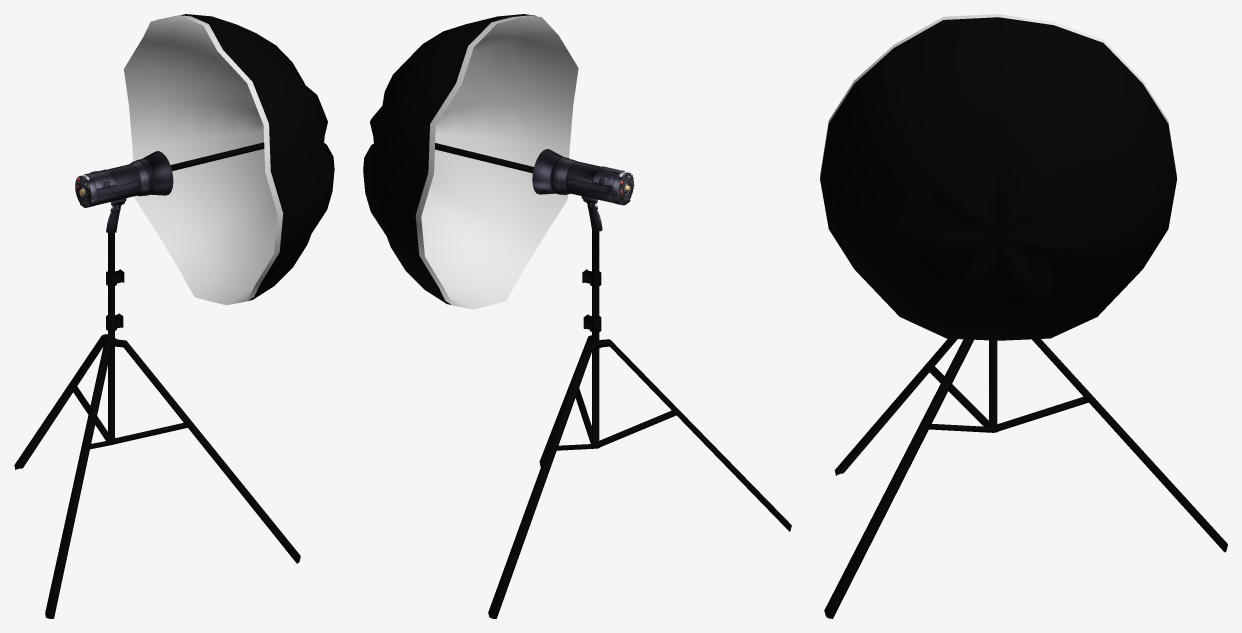
The model's file is flashes_umbrella.glb.
3 views of the same model, side by side, from view 1: azimuth 30°, elevation 25°; view 2: azimuth 150°, elevation 25°; view 3: azimuth 270°, elevation 25° (orthographic). The views are drawn at different scales.
Visible parts, largest first — view 1: Cylinder.002; view 2: Cylinder.002; view 3: Cylinder.002.
Part boxes in pixels (x1,y1,x2,y2): Cylinder.002: (14,14,334,618); Cylinder.002: (363,14,791,618); Cylinder.002: (820,14,1227,618).
Size of the model in its own units: 19.16 by 27.1 by 17.
Materials: 5 (2 with a texture image).
